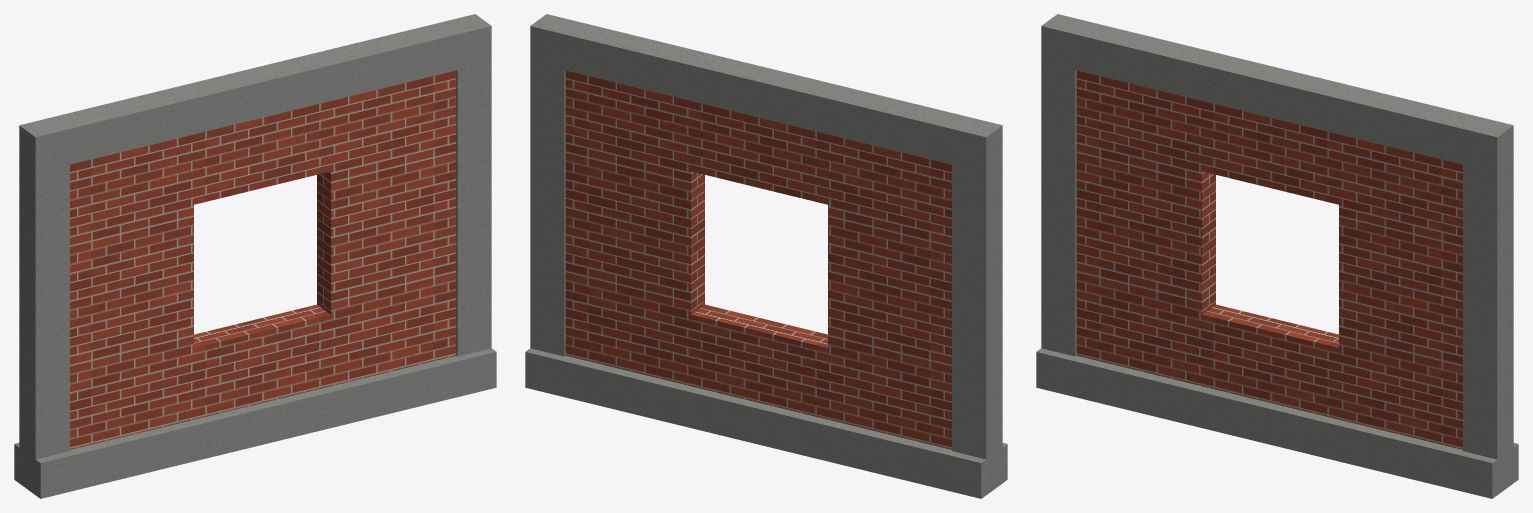
File: estate_wall_window_3b.glb
3 views of the same model, side by side, from view 1: azimuth 30°, elevation 25°; view 2: azimuth 150°, elevation 25°; view 3: azimuth 330°, elevation 25° (orthographic).
Visible parts, largest first — view 1: Cube.004, Cube.003, Cube, Cube.001, Cube.002; view 2: Cube.004, Cube.003, Cube, Cube.001, Cube.002; view 3: Cube.004, Cube.003, Cube, Cube.002, Cube.001.
Boxes of the visible parts, <box> form: Cube.004: <box>70,70,456,449</box>; Cube.003: <box>19,14,491,172</box>; Cube: <box>14,348,496,498</box>; Cube.001: <box>19,161,69,459</box>; Cube.002: <box>456,62,491,356</box>; Cube.004: <box>565,70,951,449</box>; Cube.003: <box>530,14,1002,172</box>; Cube: <box>525,348,1007,498</box>; Cube.001: <box>952,161,1002,459</box>; Cube.002: <box>530,62,565,356</box>; Cube.004: <box>1076,70,1462,449</box>; Cube.003: <box>1041,14,1513,172</box>; Cube: <box>1036,348,1518,498</box>; Cube.002: <box>1463,161,1513,459</box>; Cube.001: <box>1041,62,1076,356</box>.
Size of the model in its own units: 4 by 3 by 0.4.
Materials: 2 (2 with a texture image).
